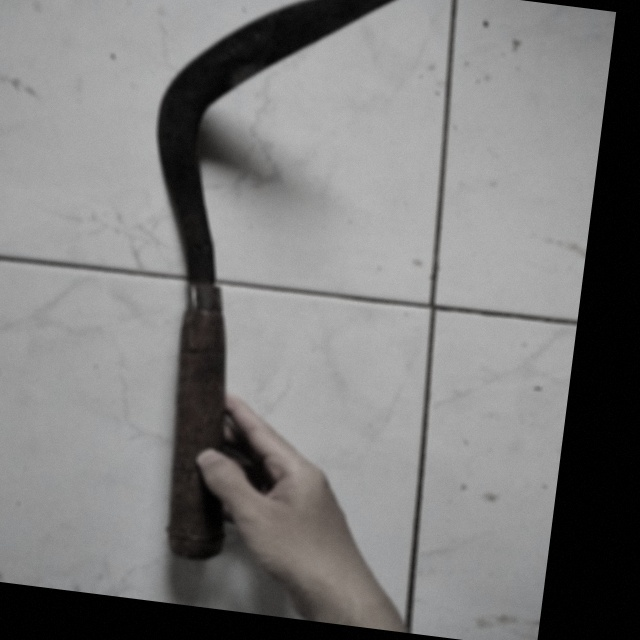Sharp-Object: (75, 0, 452, 623)
